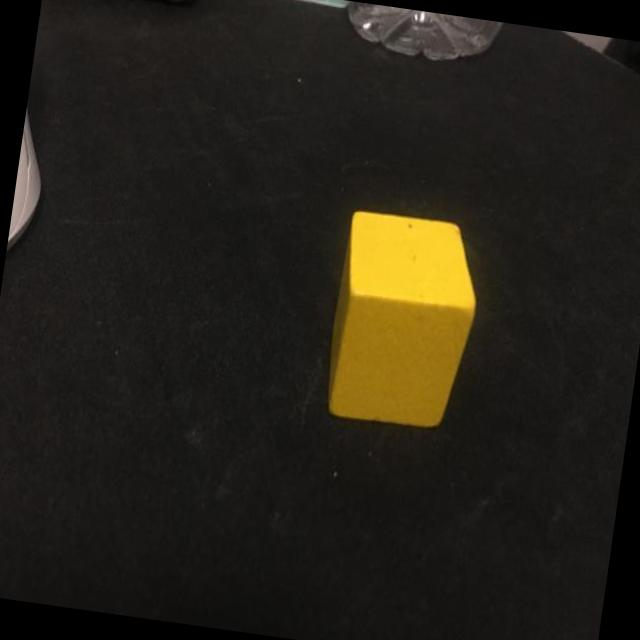yellow: (322, 209, 487, 431)
